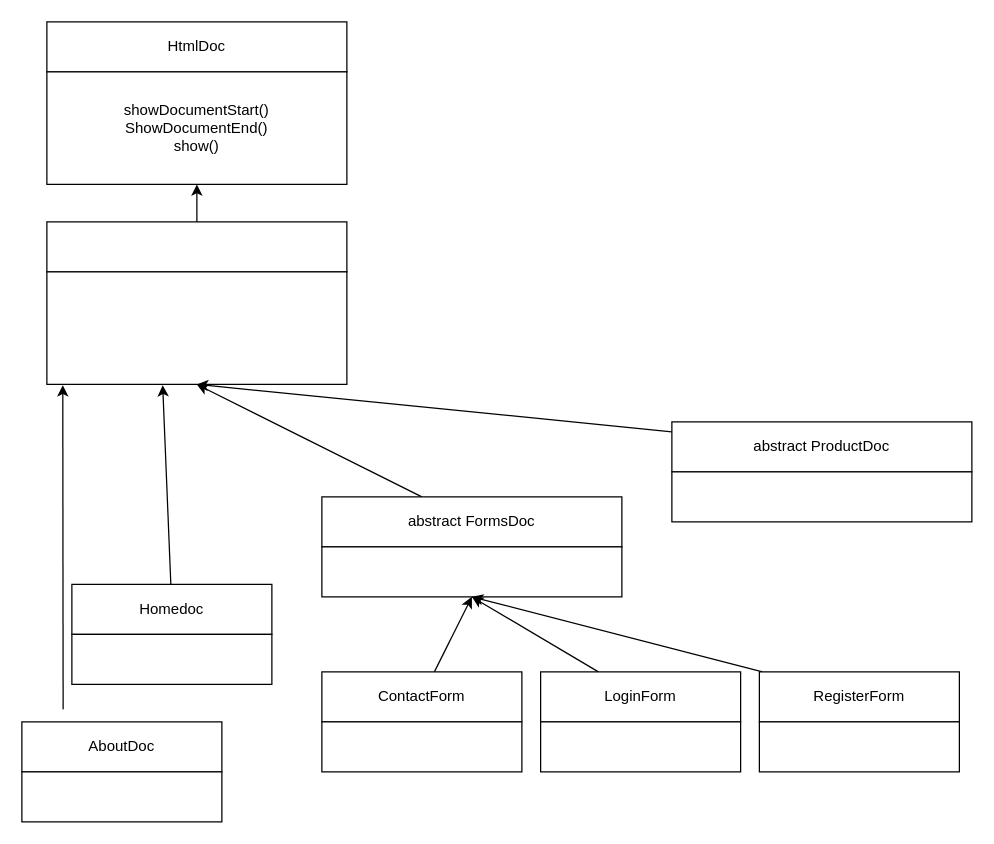
Some shapes in this 994 by 844 pixel diagram are drawn without their labels. The box of each missing label's shape, as (x1, y1, x2, y2) in pixels:
abstract showForm(): (321, 546, 622, 597)
BasicDoc: (46, 221, 347, 272)
showHeader() showMenu() showContent() showFooter(): (46, 271, 347, 384)
